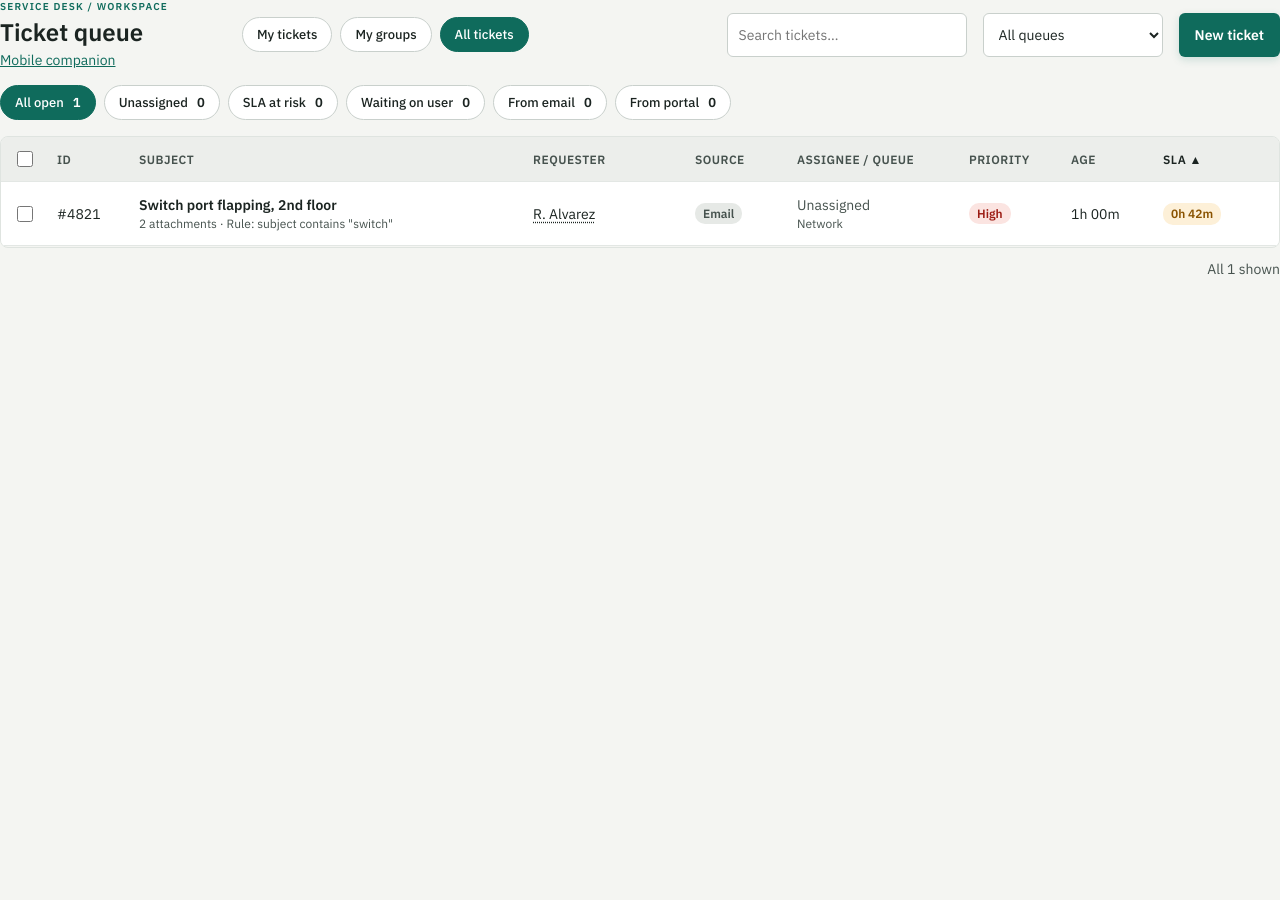
Scenario: the requester's name opens a contact card, not the ticket
Click the button "R. Alvarez" at {"x": 564, "y": 214}, box [533,204,595,222]
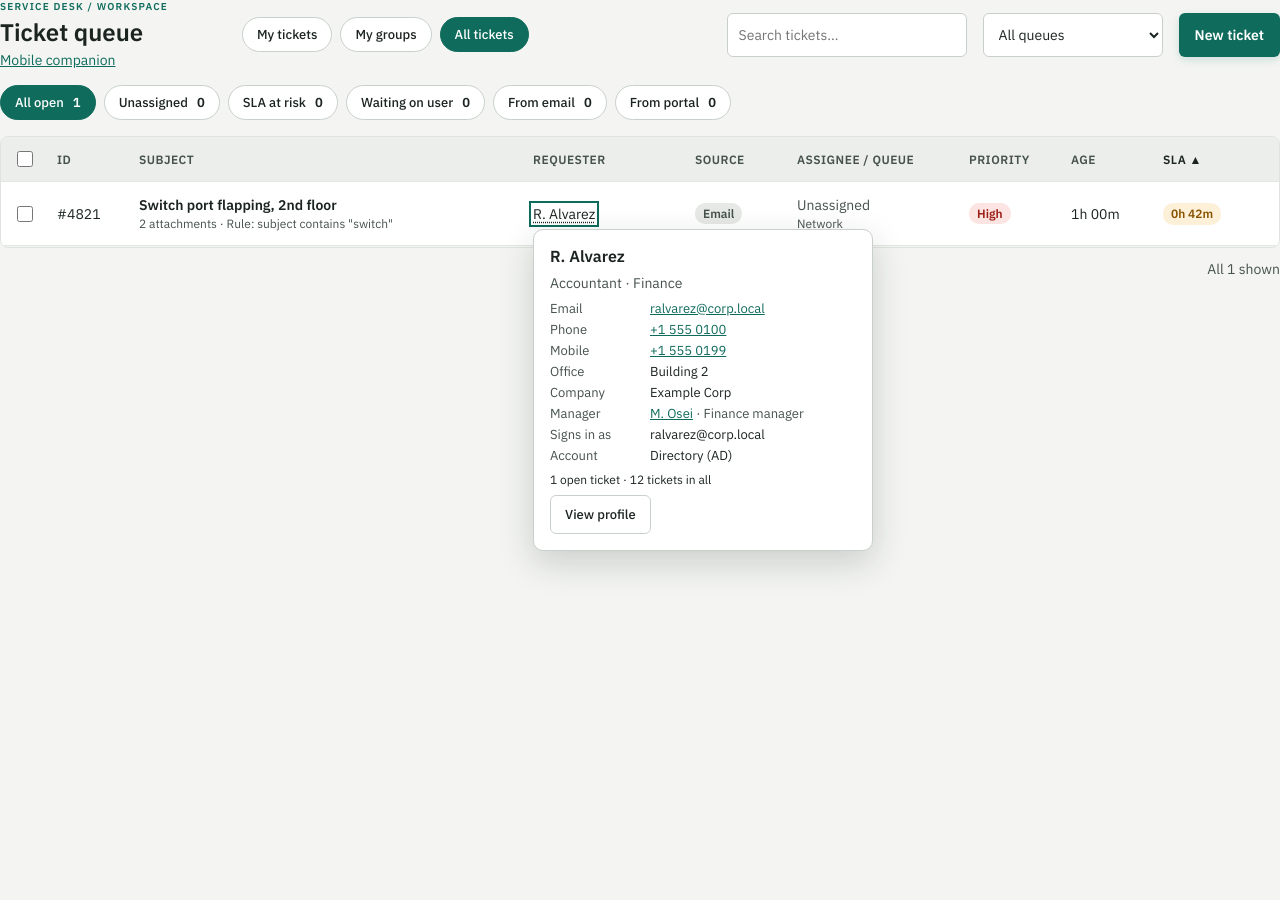
Expected: the text "Accountant · Finance" is shown, [550,274,682,292]
Expected: the text "1 open ticket · 12 tickets in all" is shown, [550,472,711,486]
Press Escape
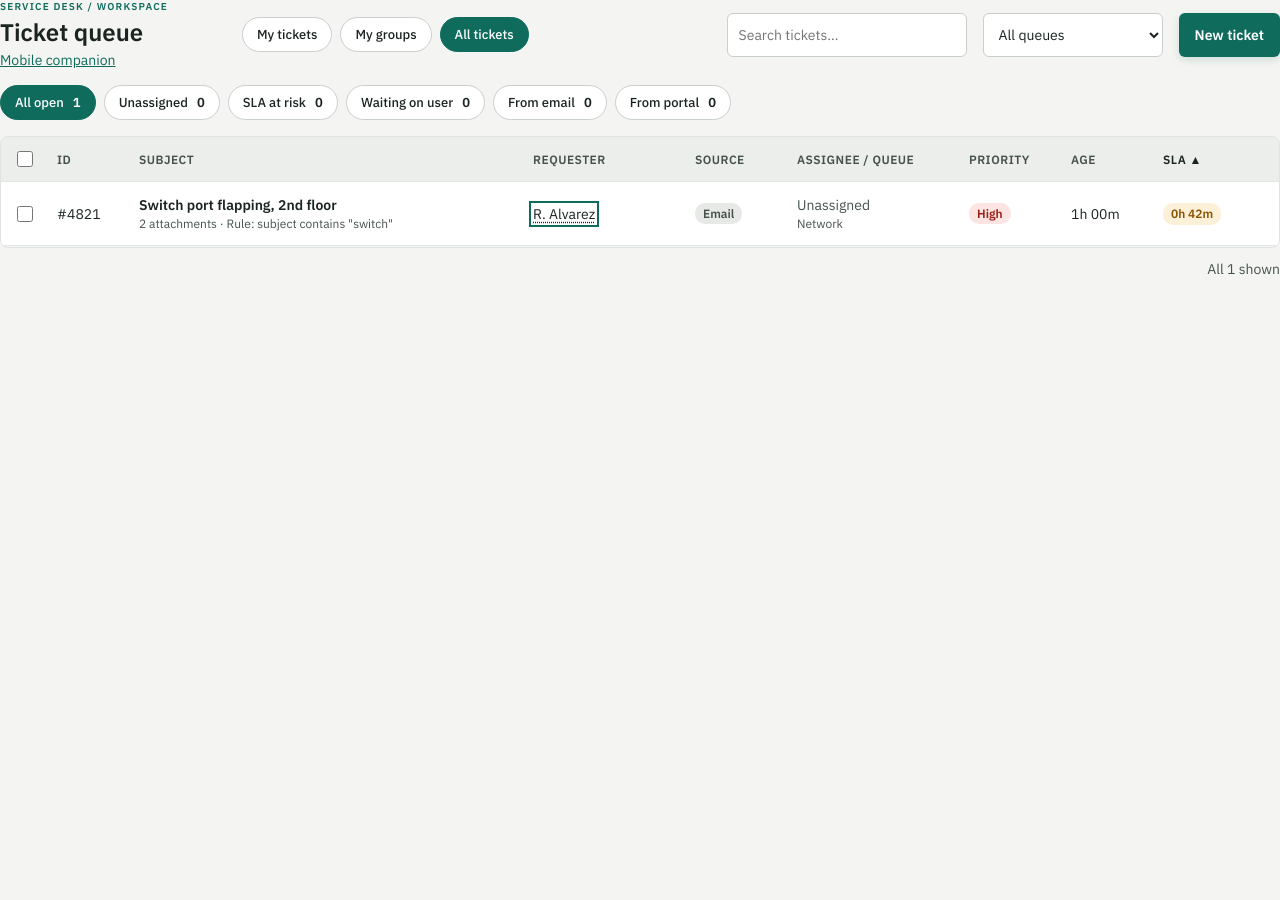
Expected: the dialog is gone
